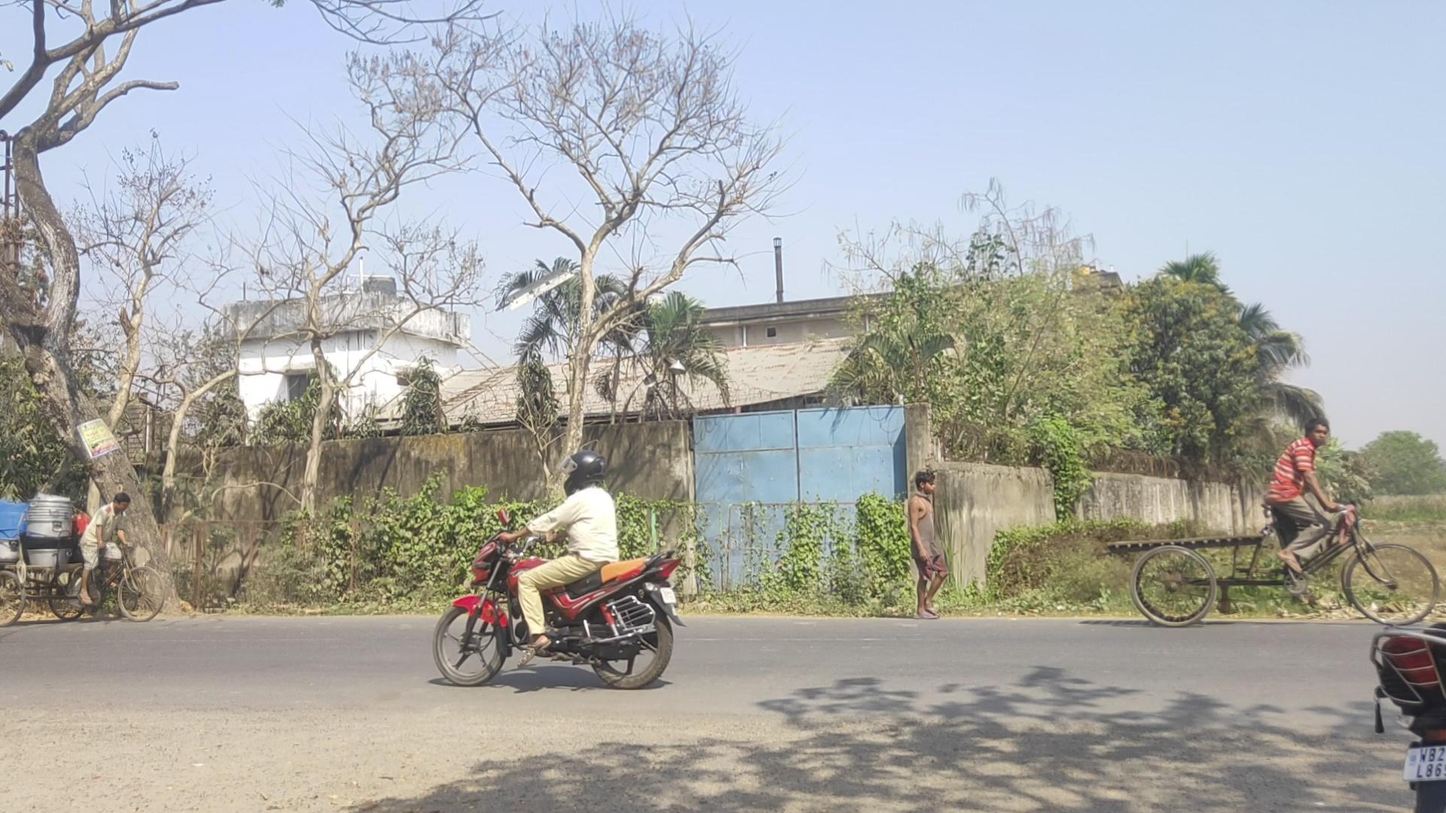bike: (432, 449, 688, 690)
